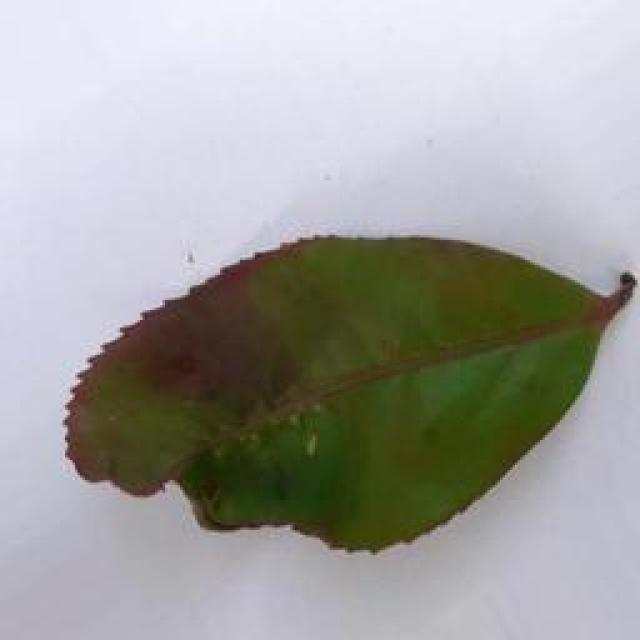Red Leaf Spot: (57, 217, 640, 554)
